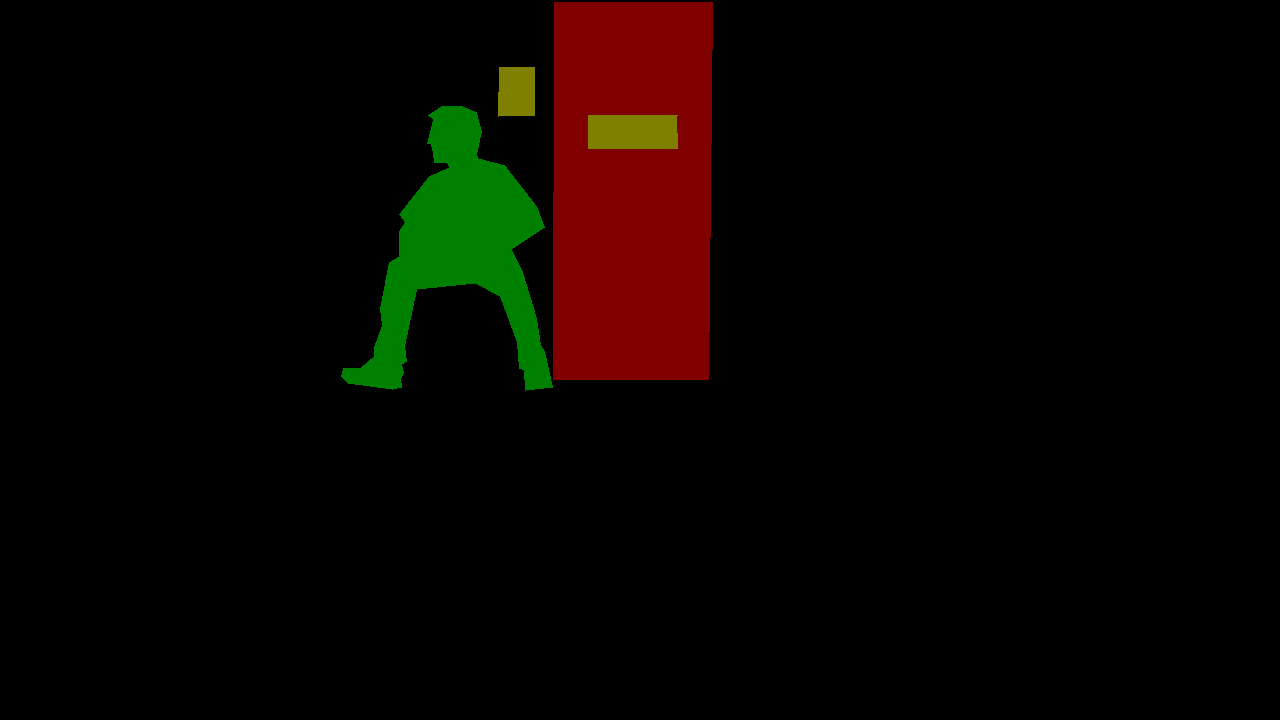door: (553, 2, 712, 380)
person: (341, 106, 552, 390)
sign: (588, 115, 677, 148), (498, 67, 534, 116)
